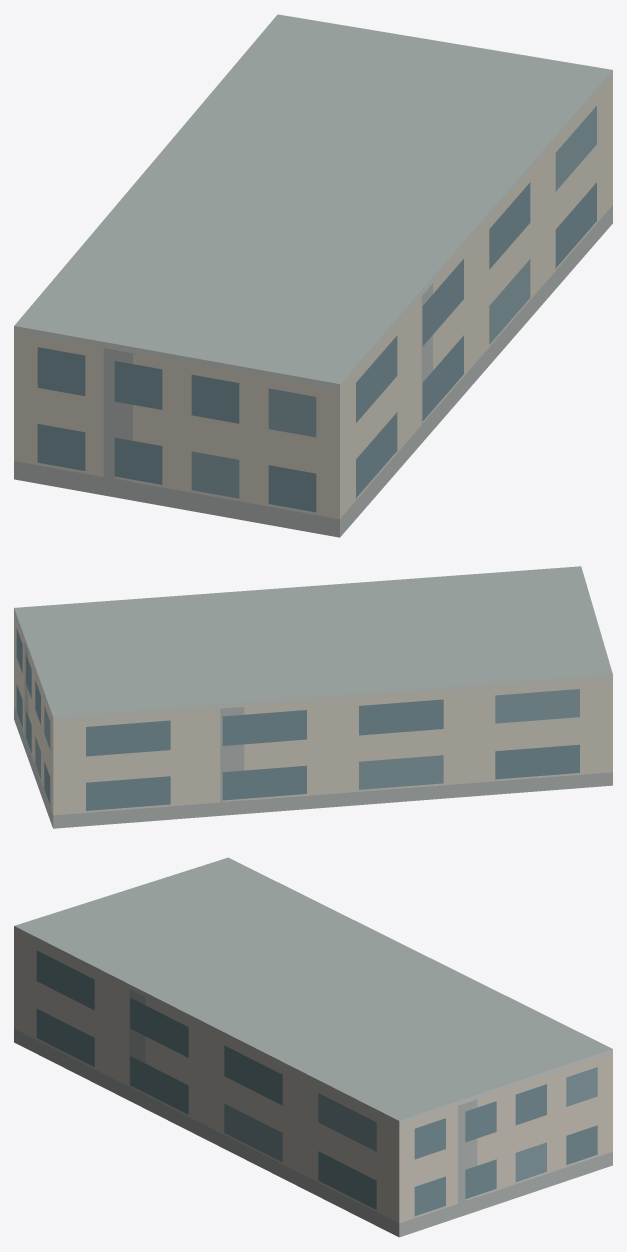
File: survey-upis-33036479.glb
3 renders of one model, top to bottom at view 1: azimuth 30°, elevation 25°; view 2: azimuth 150°, elevation 25°; view 3: azimuth 270°, elevation 25°, orthographic. The views are drawn at different scales.
Parts seen in each view (by area): view 1: survey-upis-33036479.tmp; view 2: survey-upis-33036479.tmp; view 3: survey-upis-33036479.tmp.
Boxes of the visible parts, left/top/right/bottom form: survey-upis-33036479.tmp: left=14, top=14, right=612, bottom=537; survey-upis-33036479.tmp: left=14, top=566, right=612, bottom=828; survey-upis-33036479.tmp: left=14, top=857, right=612, bottom=1237.
Bounding box in the file's own units: 29.6 × 6.1 × 28.43.
